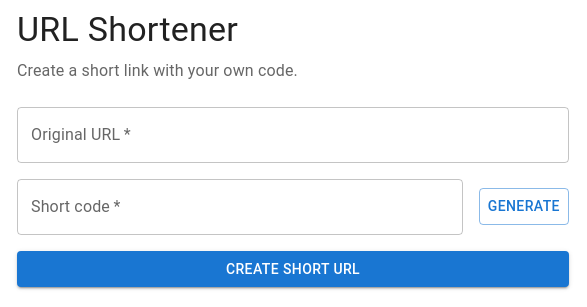
Test: generates a short code and fills the input
Click the button "Generate".
click(524, 207)  # box top-left (479, 188), bottom-right (569, 225)
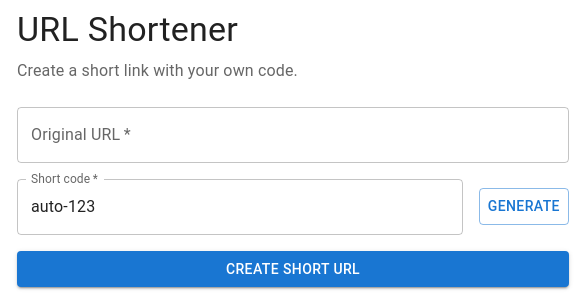
Check: the field labelled "Short code *" holds "auto-123", box top-left (17, 179), bottom-right (463, 235)
